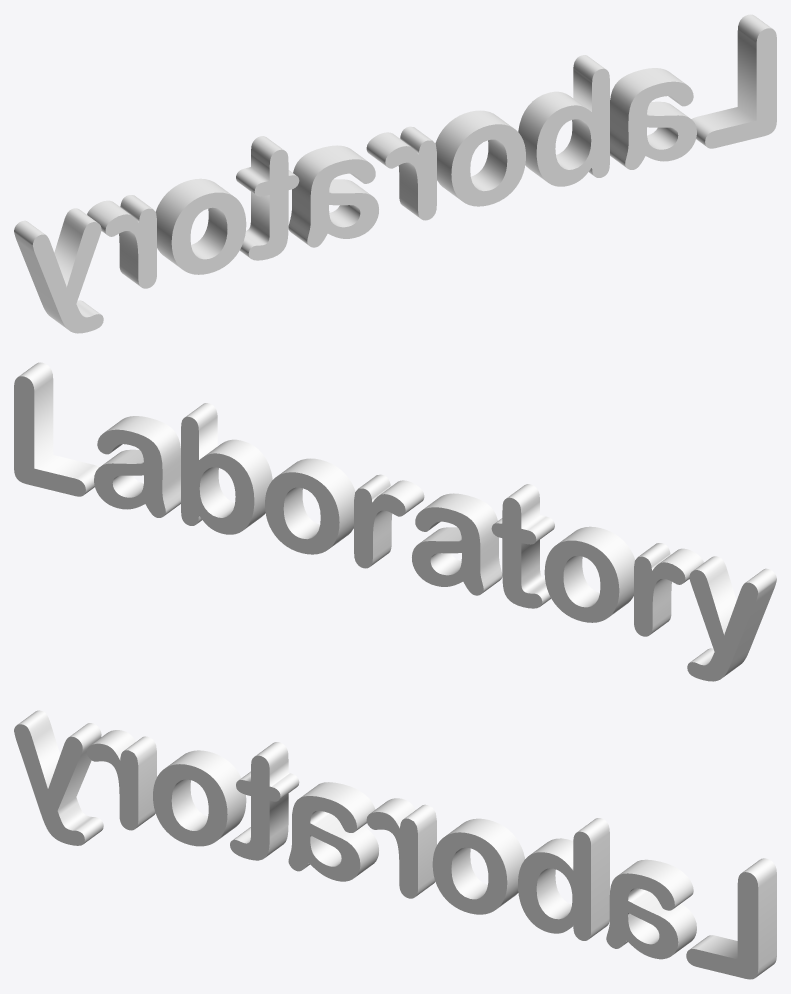
The model's file is Text Laboratory.fbx.
3 views of the same model, one above another, from view 1: azimuth 30°, elevation 25°; view 2: azimuth 150°, elevation 25°; view 3: azimuth 330°, elevation 25° (orthographic).
Visible parts, largest first — view 1: Text; view 2: Text; view 3: Text.
Boxes of the visible parts, x1,y1,x2,y2 form: Text: [14, 14, 776, 333]; Text: [14, 362, 776, 681]; Text: [14, 710, 776, 979].
Size of the model in its own units: 45.75 by 8.11 by 2.
